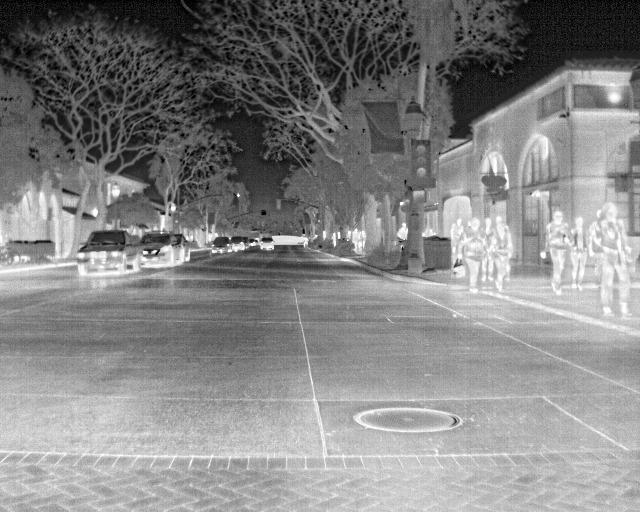bicycle: (76, 227, 141, 277), (140, 232, 184, 269), (171, 234, 191, 262), (211, 236, 232, 257), (257, 233, 276, 252), (229, 236, 245, 252)
empty: (596, 201, 633, 319), (543, 208, 570, 294), (461, 220, 488, 290), (566, 214, 589, 291), (490, 221, 514, 291), (449, 216, 463, 267), (396, 222, 411, 242), (349, 227, 361, 251)
